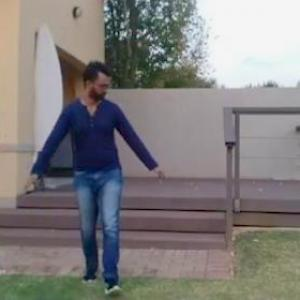land: (5, 42, 197, 299)
